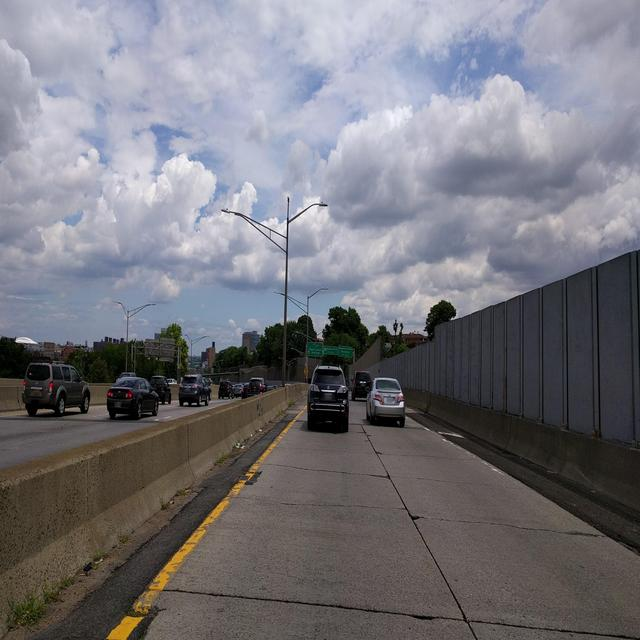Barrier: (0, 377, 309, 638), (401, 388, 639, 511), (169, 384, 218, 399), (88, 383, 113, 404)
Car: (21, 359, 175, 419), (307, 364, 404, 431), (178, 373, 267, 406)
Vegetation: (127, 323, 190, 382), (390, 299, 456, 355), (214, 322, 283, 367), (8, 579, 72, 626), (91, 552, 105, 569)
